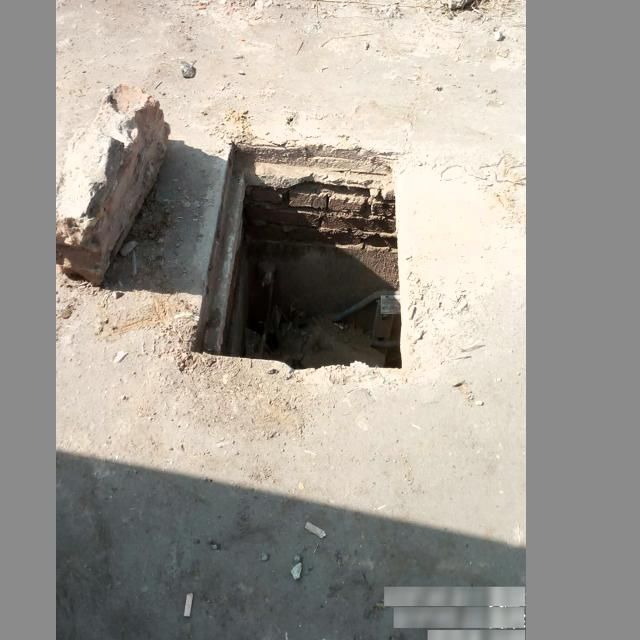lose: (166, 112, 450, 397)
